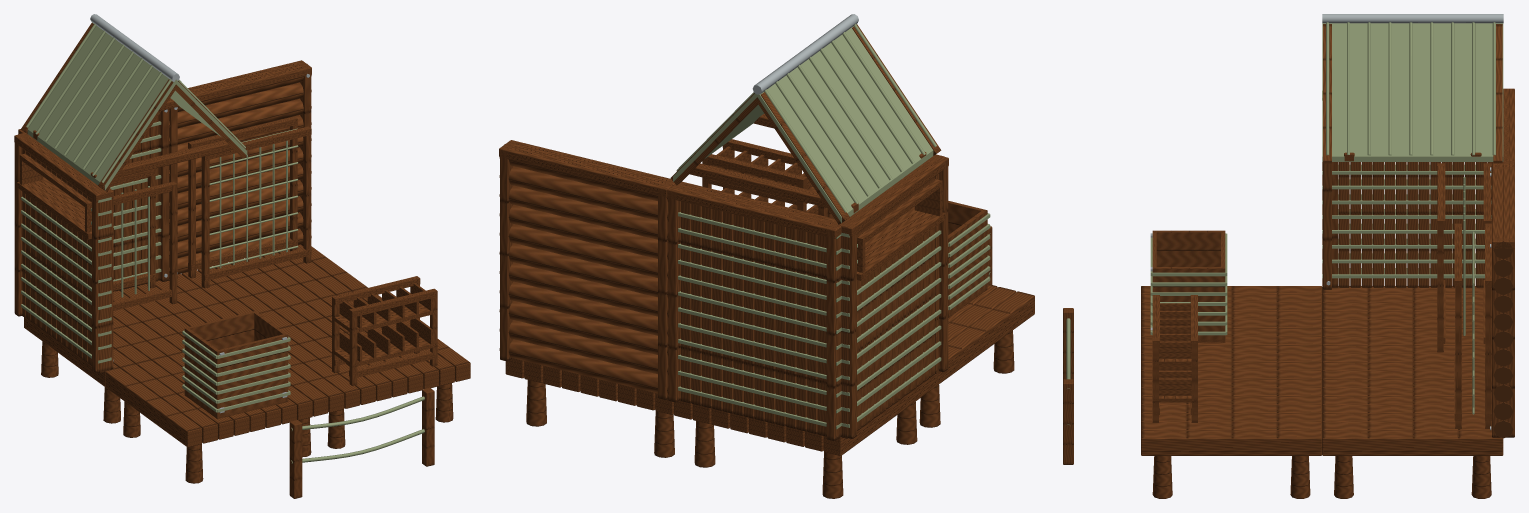
The model's file is prehistoric-survivor-settlement-construction-and-servi-efd3308b__23233.glb.
3 views of the same model, side by side, from view 1: azimuth 30°, elevation 25°; view 2: azimuth 150°, elevation 25°; view 3: azimuth 270°, elevation 25° (orthographic). The views are drawn at different scales.
Parts seen in each view (by area): view 1: 005-log-wall/0, 006-woven-high-vent-wall/0, 007-thatch-gable-roof/0, 001-raised-pole-platform/0, 003-raised-pole-platform/0, 010-clay-pot-drying-rack/0, 002-raised-pole-platform/0, 000-raised-pole-platform/0, 008-hide-stretching-frame/0, 011-grain-storage-bin/0, 004-woven-wall/0, 006-woven-high-vent-wall/1 (+9 smaller); view 2: 005-log-wall/0, 004-woven-wall/0, 006-woven-high-vent-wall/0, 007-thatch-gable-roof/0, 004-woven-wall/1, 000-raised-pole-platform/0, 001-raised-pole-platform/0, 007-thatch-gable-roof/1, 002-raised-pole-platform/0, 006-woven-high-vent-wall/1, 010-clay-pot-drying-rack/0, 011-grain-storage-bin/0 (+2 smaller); view 3: 007-thatch-gable-roof/0, 002-raised-pole-platform/0, 003-raised-pole-platform/0, 006-woven-high-vent-wall/0, 000-raised-pole-platform/0, 001-raised-pole-platform/0, 005-log-wall/0, 006-woven-high-vent-wall/1, 011-grain-storage-bin/0, 010-clay-pot-drying-rack/0, 008-hide-stretching-frame/0, 009-cordage-drying-frame/0 (+6 smaller).
Boxes of the visible parts, <box> form: 005-log-wall/0: <box>169,60,311,278</box>; 006-woven-high-vent-wall/0: <box>14,133,113,372</box>; 007-thatch-gable-roof/0: <box>26,22,247,190</box>; 001-raised-pole-platform/0: <box>106,353,328,483</box>; 003-raised-pole-platform/0: <box>281,316,470,448</box>; 010-clay-pot-drying-rack/0: <box>332,276,437,385</box>; 002-raised-pole-platform/0: <box>169,244,381,328</box>; 000-raised-pole-platform/0: <box>24,280,221,423</box>; 008-hide-stretching-frame/0: <box>188,116,311,288</box>; 011-grain-storage-bin/0: <box>184,311,288,418</box>; 004-woven-wall/0: <box>18,109,169,291</box>; 006-woven-high-vent-wall/1: <box>21,196,111,363</box>; 005-log-wall/0: <box>499,140,674,399</box>; 004-woven-wall/0: <box>667,181,845,440</box>; 006-woven-high-vent-wall/0: <box>833,154,948,438</box>; 007-thatch-gable-roof/0: <box>673,23,936,222</box>; 004-woven-wall/1: <box>678,212,841,429</box>; 000-raised-pole-platform/0: <box>674,373,937,498</box>; 001-raised-pole-platform/0: <box>919,284,1034,427</box>; 007-thatch-gable-roof/1: <box>670,24,941,224</box>; 002-raised-pole-platform/0: <box>505,358,674,457</box>; 006-woven-high-vent-wall/1: <box>841,230,941,427</box>; 010-clay-pot-drying-rack/0: <box>702,139,827,216</box>; 011-grain-storage-bin/0: <box>948,201,987,317</box>; 007-thatch-gable-roof/0: <box>1322,22,1503,161</box>; 002-raised-pole-platform/0: <box>1322,362,1503,498</box>; 003-raised-pole-platform/0: <box>1141,362,1322,498</box>; 006-woven-high-vent-wall/0: <box>1322,162,1491,289</box>; 000-raised-pole-platform/0: <box>1322,286,1491,362</box>; 001-raised-pole-platform/0: <box>1141,286,1322,362</box>; 005-log-wall/0: <box>1492,165,1514,438</box>; 006-woven-high-vent-wall/1: <box>1322,91,1491,278</box>; 011-grain-storage-bin/0: <box>1152,230,1225,342</box>; 010-clay-pot-drying-rack/0: <box>1152,295,1197,422</box>; 008-hide-stretching-frame/0: <box>1454,223,1491,428</box>; 009-cordage-drying-frame/0: <box>1437,163,1491,352</box>.
Size of the model in its own units: 4.16 by 4.57 by 4.99.
Materials: 3 (1 with a texture image).
